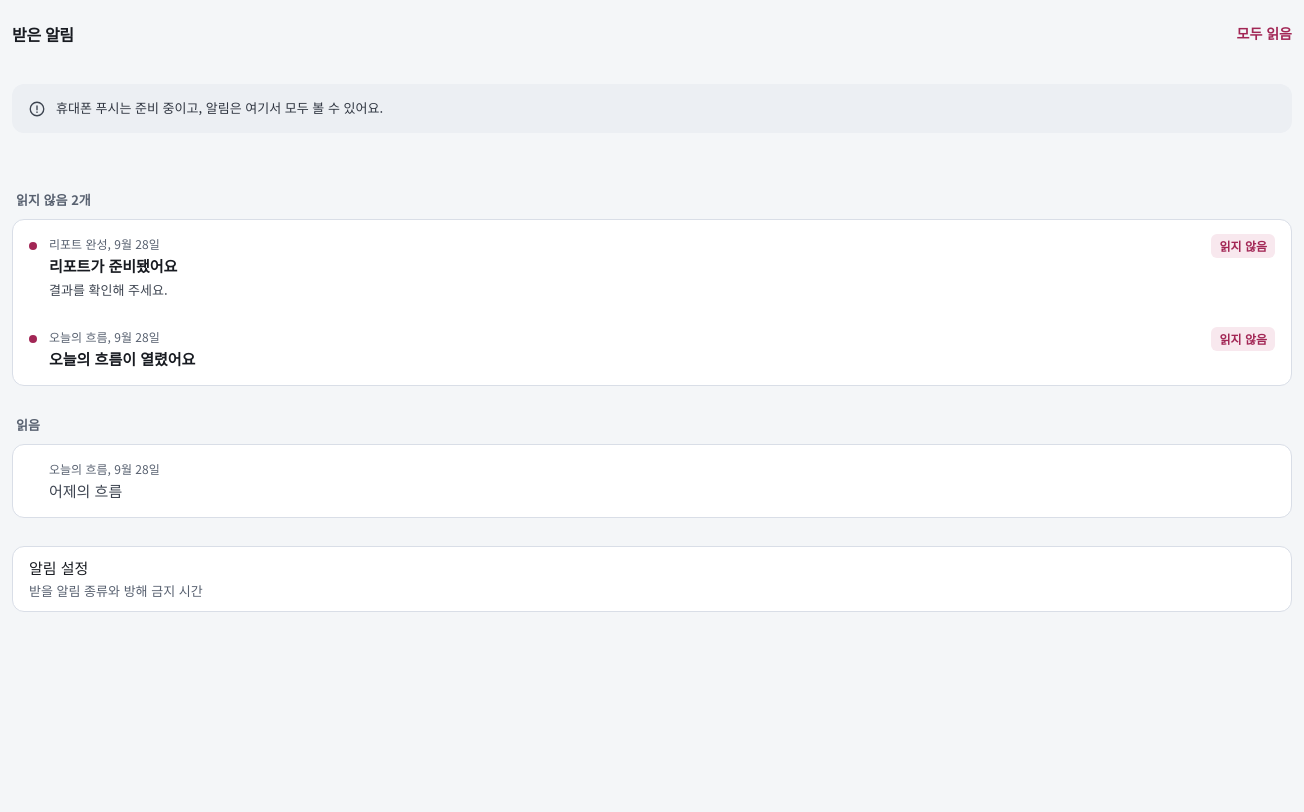
notification inbox › marks everything read with one button
The image size is (1304, 812).
Click the button "모두 읽음": (1264, 34) [1236,12,1292,56]
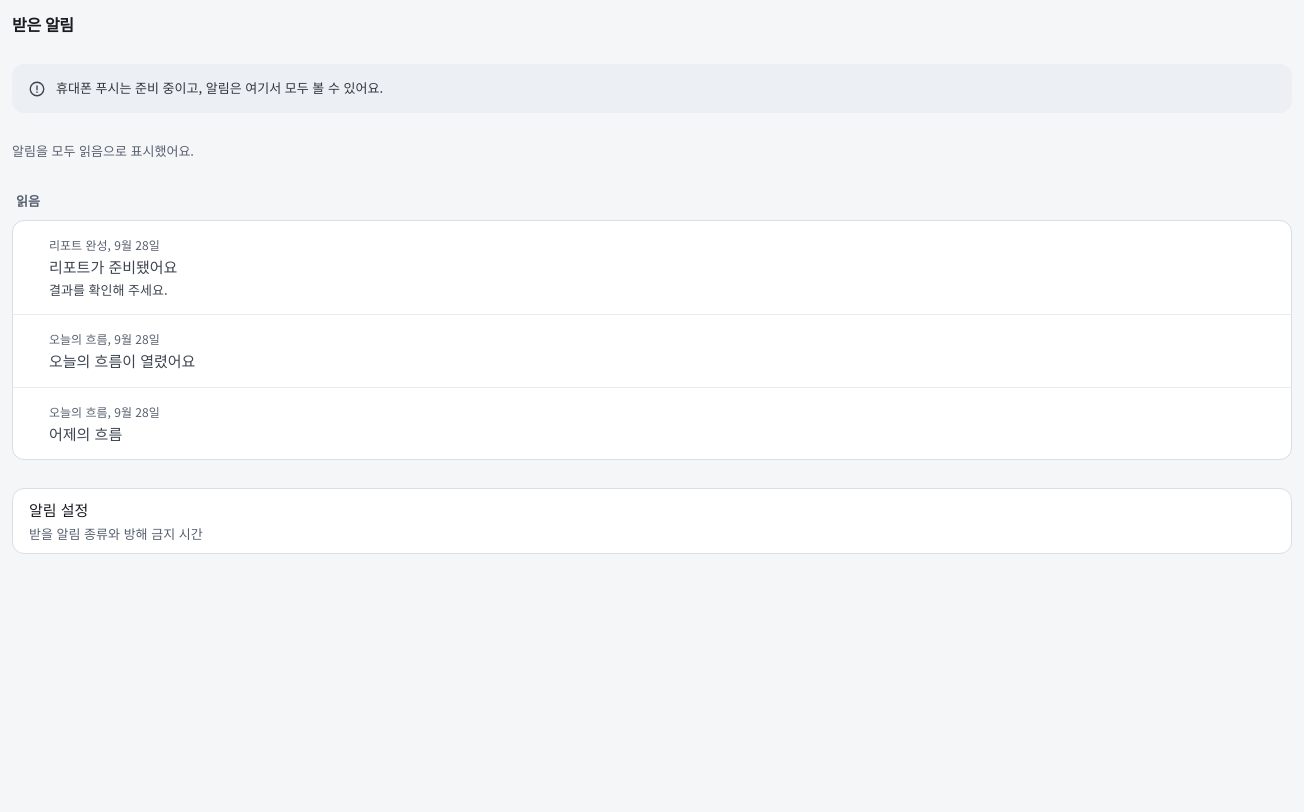
Expected: the message shows "모두 읽음으로 표시했어요", [12,141,194,160]
Expected: the heading "읽지 않음" is gone
